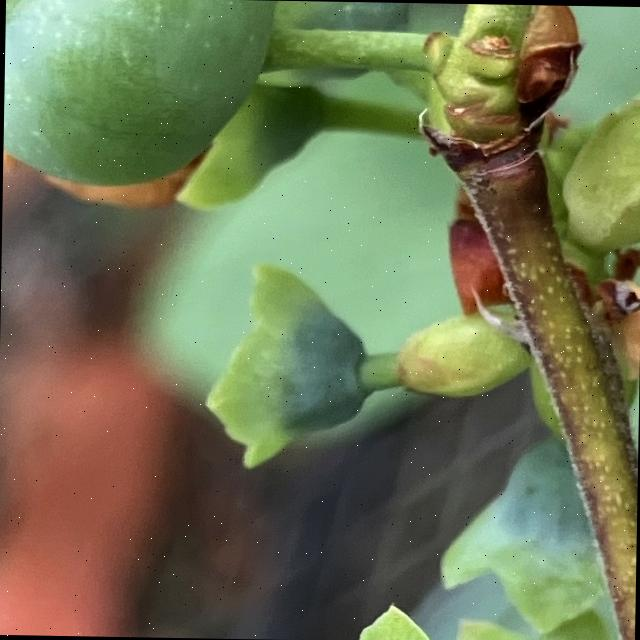Blueberries: (2, 0, 287, 202)
